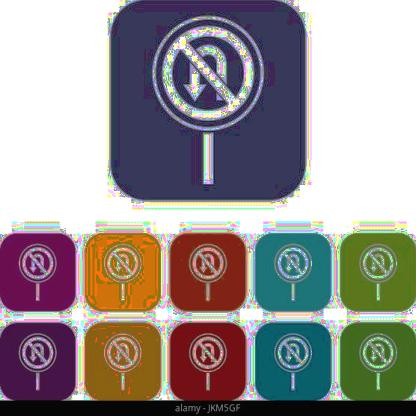No U-turn: (152, 15, 268, 132), (353, 332, 400, 377), (186, 240, 232, 284), (271, 330, 314, 375), (19, 240, 61, 286), (360, 240, 400, 288), (271, 242, 311, 283), (188, 332, 228, 372), (102, 333, 141, 370), (108, 243, 141, 284), (22, 333, 54, 371)
